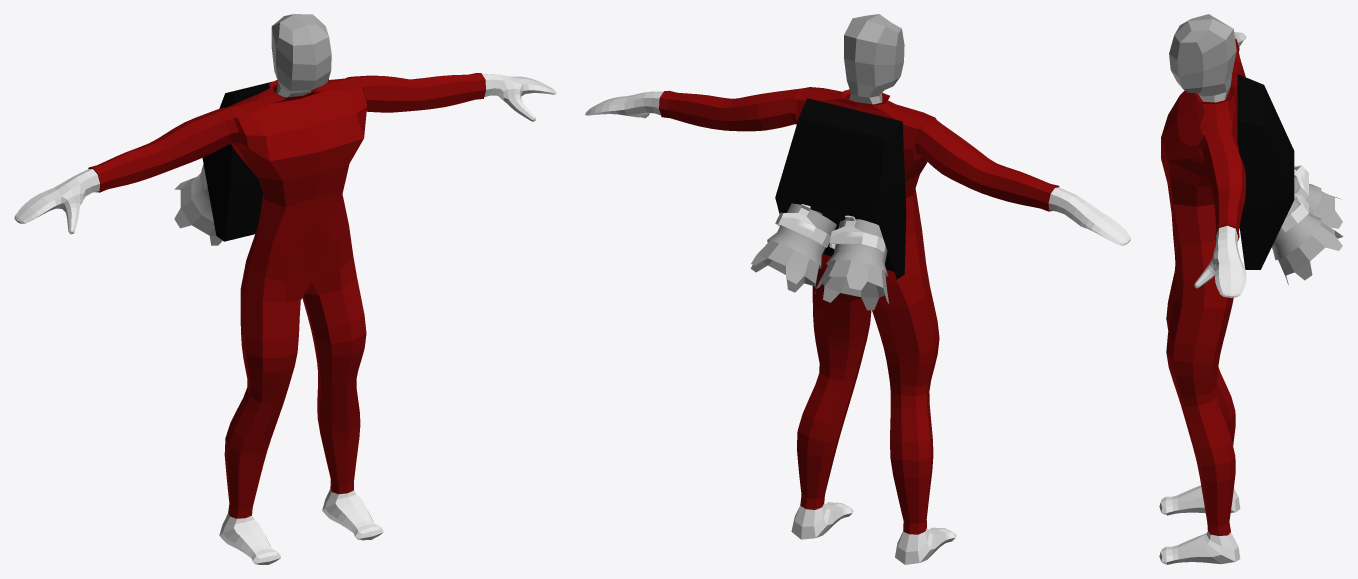
The model's file is human1103.fbx.
3 views of the same model, side by side, from view 1: azimuth 30°, elevation 25°; view 2: azimuth 150°, elevation 25°; view 3: azimuth 270°, elevation 25° (orthographic).
Visible parts, largest first — view 1: polySurface71, polySurface75, polySurface73, polySurface72, polySurface178, polySurface74; view 2: polySurface71, polySurface75, polySurface73, polySurface178, polySurface145, polySurface72, polySurface74, polySurface144, polySurface179; view 3: polySurface71, polySurface75, polySurface73, polySurface145, polySurface74, polySurface178, polySurface144, polySurface179.
Part boxes in pixels (x1,y1,x2,y2): polySurface71: (88, 73, 485, 564); polySurface75: (202, 79, 328, 241); polySurface73: (271, 14, 331, 97); polySurface72: (14, 169, 99, 234); polySurface178: (174, 173, 222, 245); polySurface74: (482, 74, 556, 121); polySurface71: (659, 87, 1059, 564); polySurface75: (775, 98, 906, 279); polySurface73: (844, 14, 904, 104); polySurface178: (816, 219, 889, 310); polySurface145: (750, 203, 836, 293); polySurface72: (1048, 187, 1130, 245); polySurface74: (585, 91, 663, 118); polySurface144: (775, 204, 830, 247); polySurface179: (829, 215, 885, 252); polySurface71: (1159, 38, 1245, 564); polySurface75: (1237, 74, 1294, 269); polySurface73: (1169, 14, 1236, 102); polySurface145: (1271, 198, 1343, 285); polySurface74: (1194, 225, 1246, 297); polySurface178: (1294, 177, 1342, 228); polySurface144: (1281, 193, 1308, 232); polySurface179: (1294, 165, 1308, 198).
Size of the model in its own units: 146 by 135 by 43.61.
